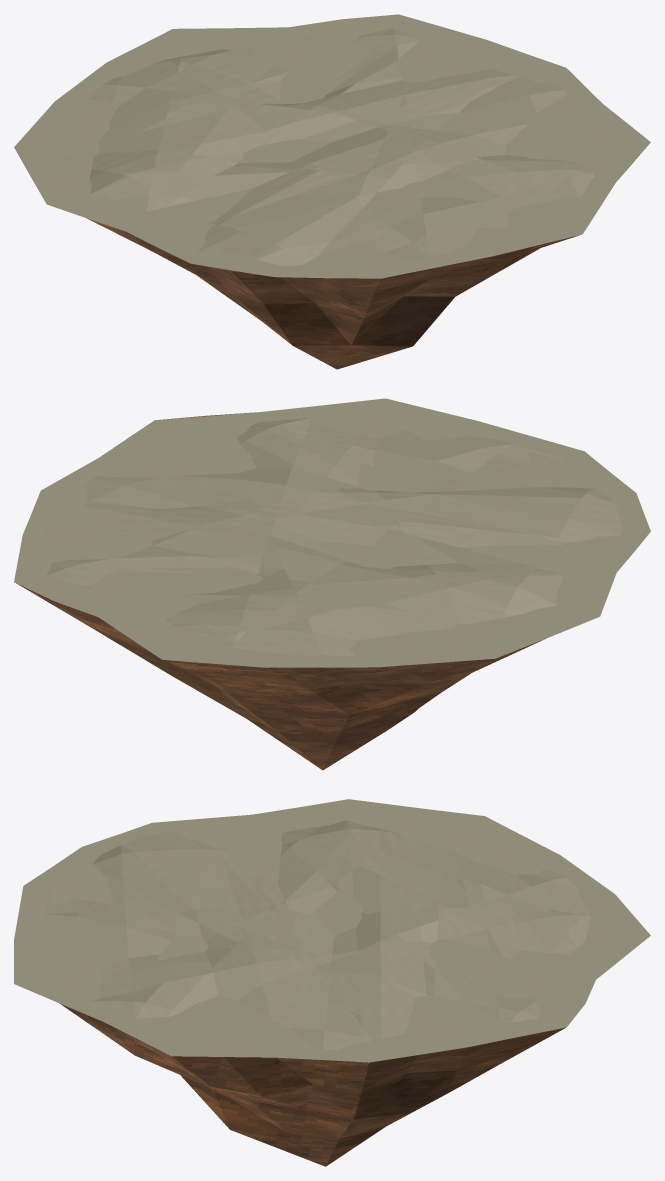
File: island.glb
3 views of the same model, one above another, from view 1: azimuth 30°, elevation 25°; view 2: azimuth 150°, elevation 25°; view 3: azimuth 270°, elevation 25° (orthographic). The views are drawn at different scales.
Parts seen in each view (by area): view 1: Cone.001, Cone; view 2: Cone.001, Cone; view 3: Cone.001, Cone.
Boxes of the visible parts, x1,y1,x2,y2 form: Cone.001: (88,28,594,267); Cone: (14,14,650,369); Cone.001: (47,418,623,656); Cone: (14,398,650,770); Cone.001: (42,820,590,1050); Cone: (14,799,650,1166).
Bounding box in the file's own units: 58.4 × 24.72 × 59.71.
Materials: 3 (3 with a texture image).
